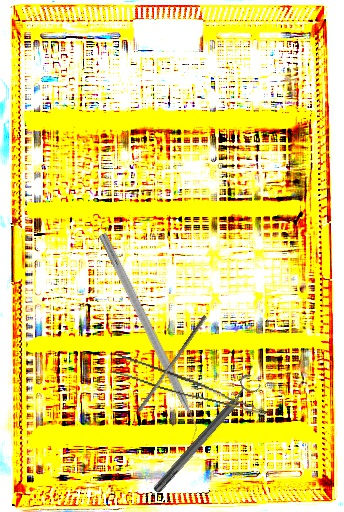Chopper: (86, 232, 207, 446)
Fixation Ring: (146, 371, 264, 498)
Pusher: (136, 312, 208, 415)
Tissue Forceps: (110, 354, 272, 416)
